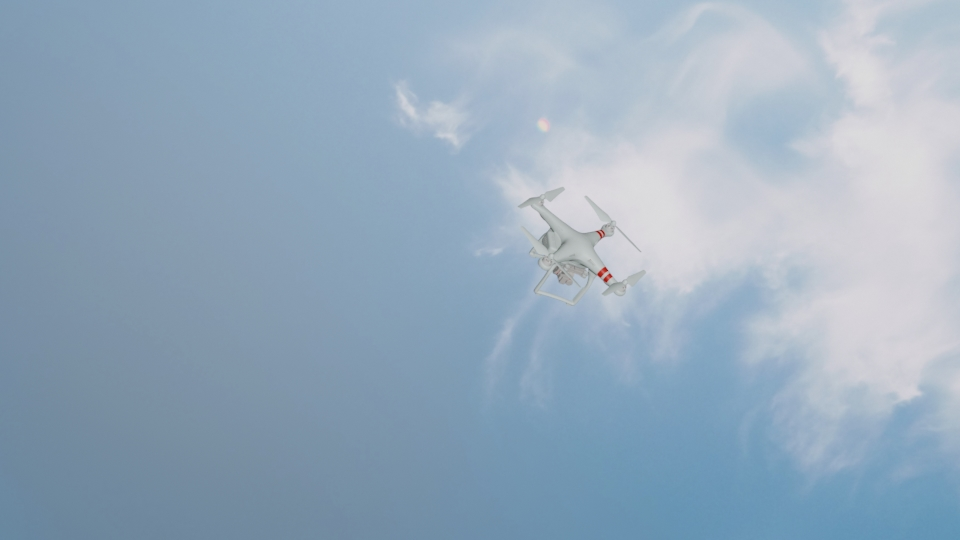drone: (514, 184, 648, 308)
